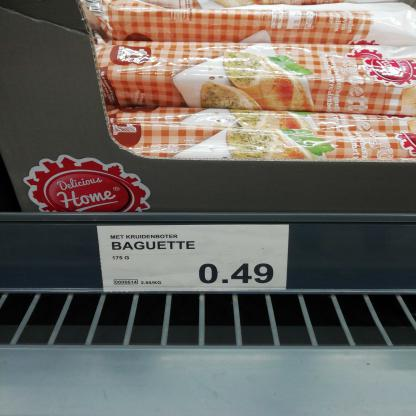prtg: (98, 226, 292, 293)
